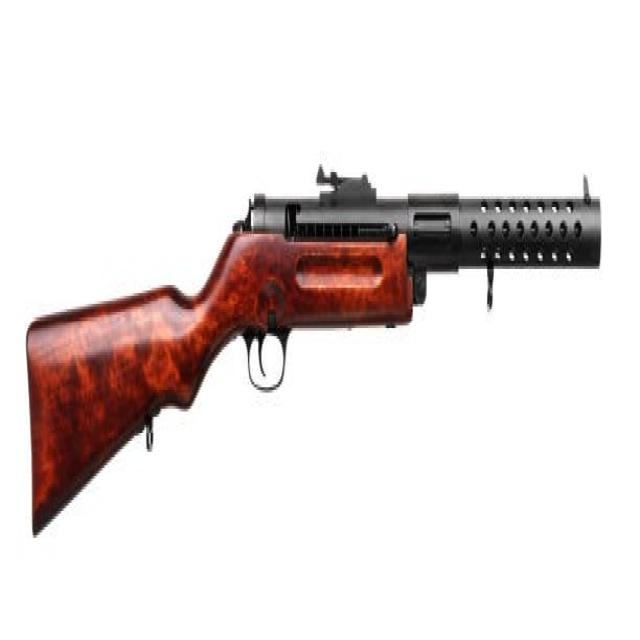rifle: (23, 157, 606, 556)
